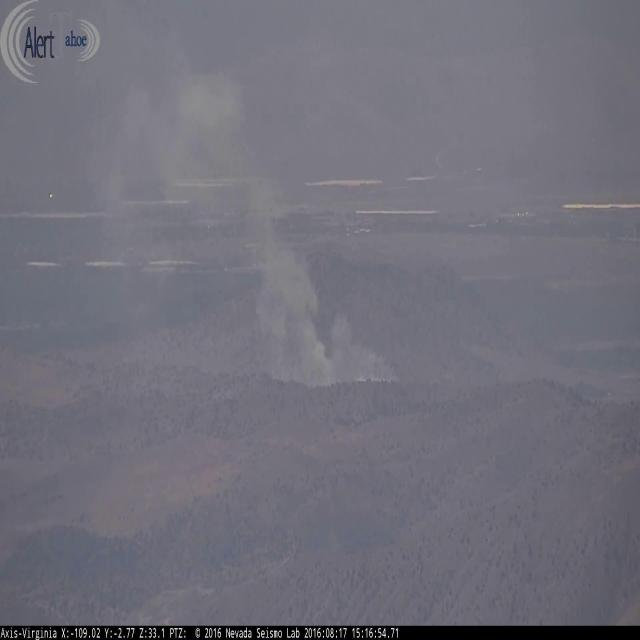smoke: (79, 57, 401, 385)
